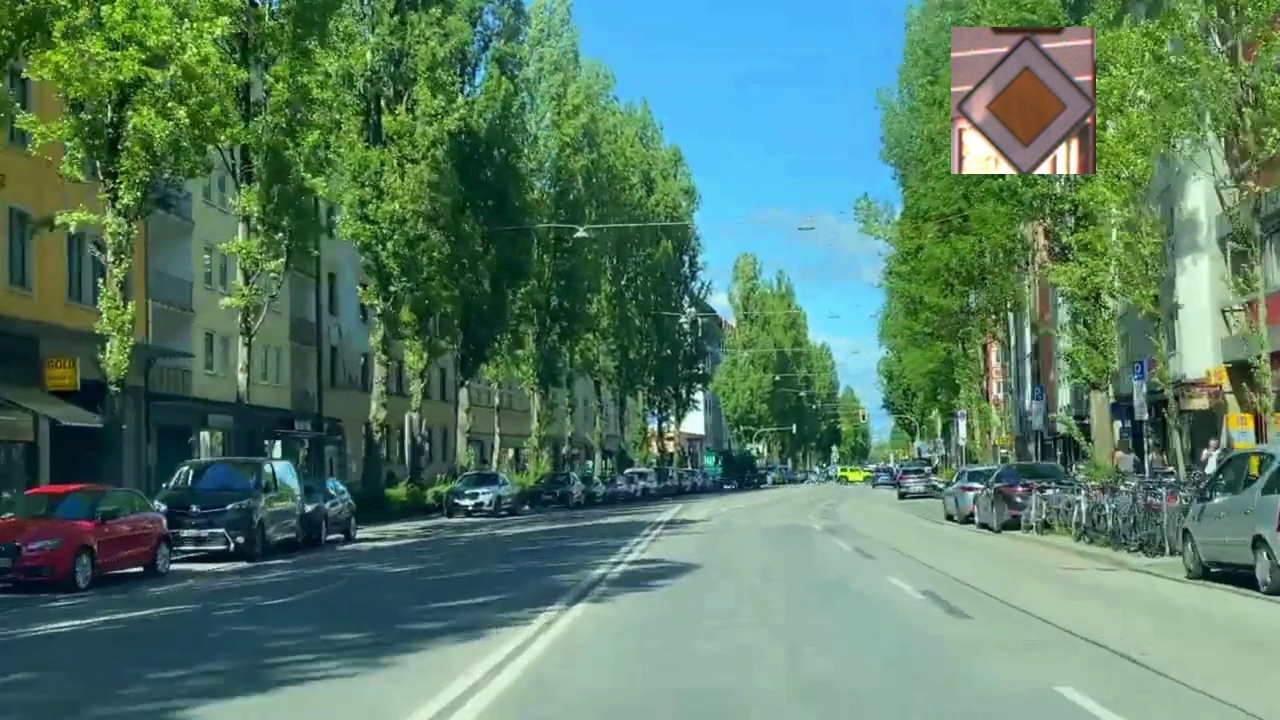Priority road: (951, 27, 1096, 174)
